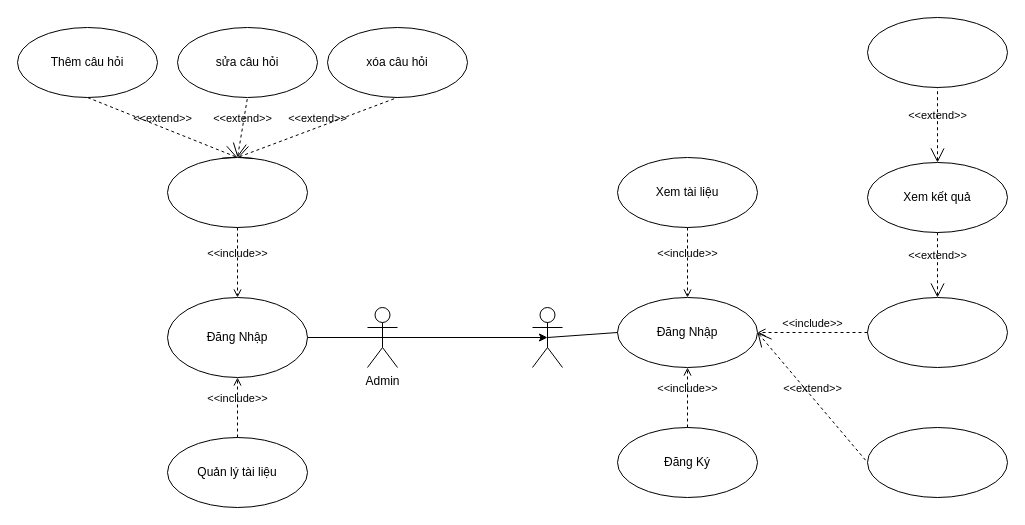
Image size: 1025x525. Some labels were removed from this diagram. The box of each missing label's shape, as (x1, y1, x2, y2) in pixels:
Chia sẻ kết quả: (866, 16, 1008, 88)
Quản lý câu hỏi: (166, 156, 308, 228)
Thi trắc nghiệm: (866, 296, 1008, 368)
user: (532, 306, 562, 368)
Xem thông tin: (866, 426, 1008, 498)
